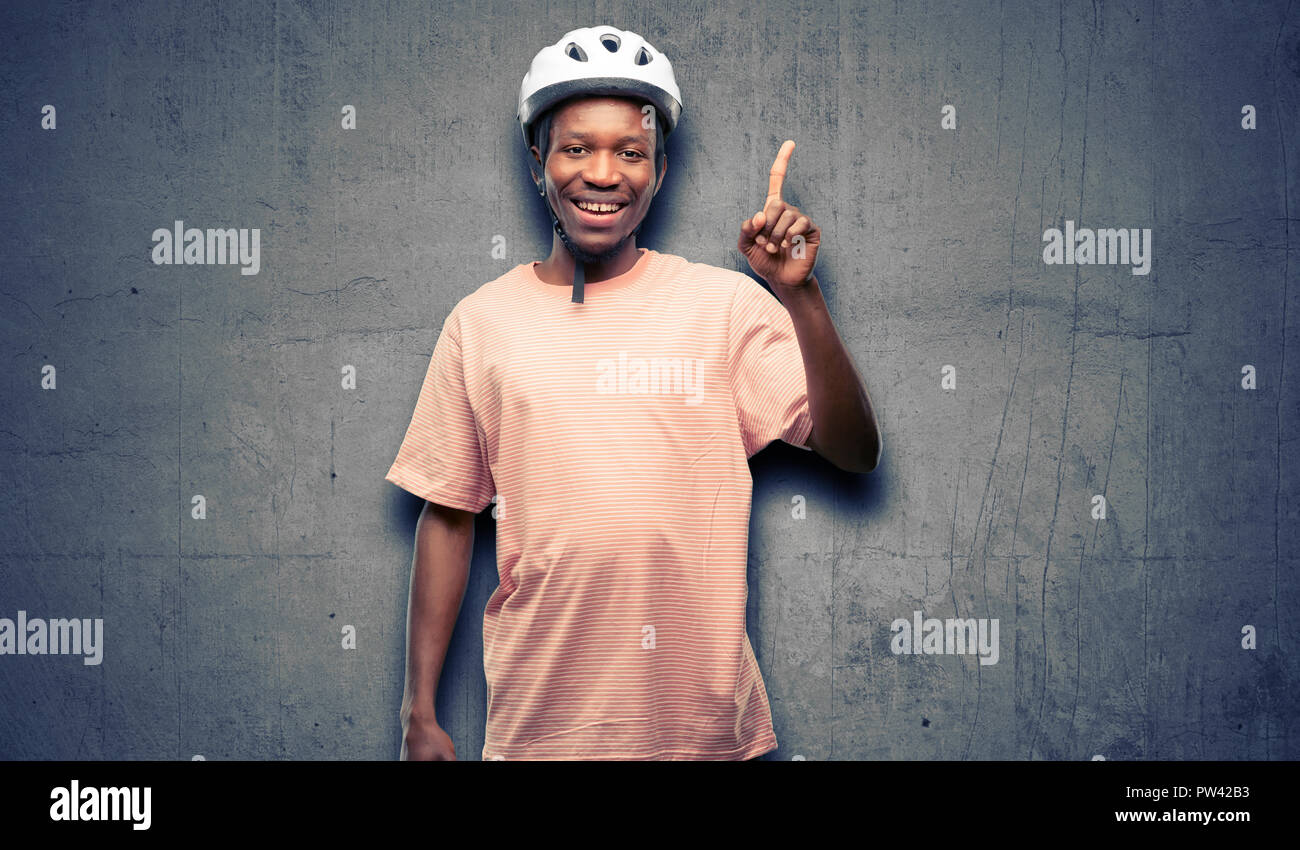helmet: (516, 26, 683, 254)
